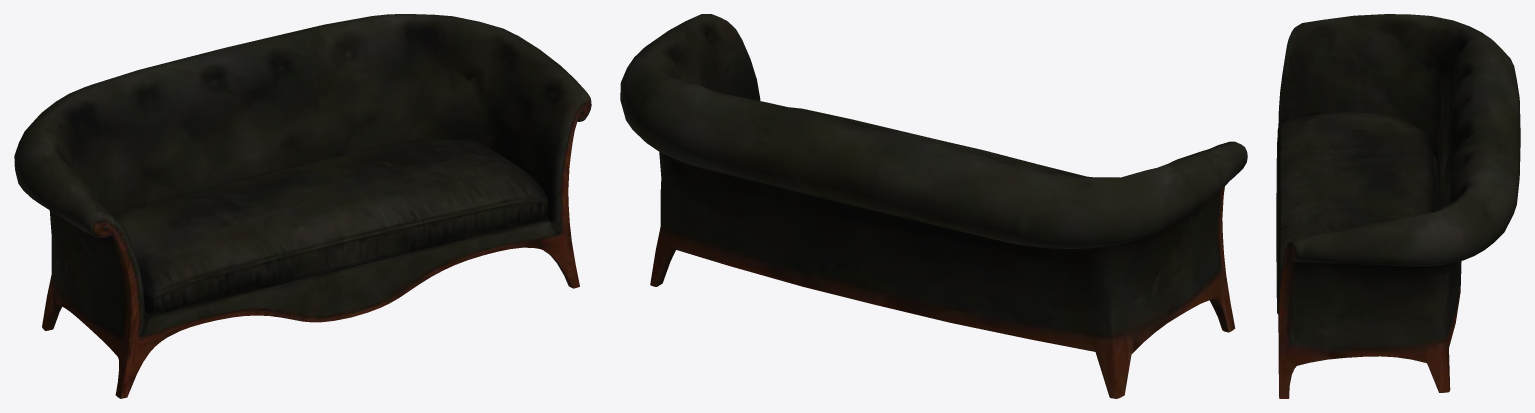
Rendered from sofa_02.glb.
3 renders of one model, left to right at view 1: azimuth 30°, elevation 25°; view 2: azimuth 150°, elevation 25°; view 3: azimuth 270°, elevation 25°, orthographic. The views are drawn at different scales.
Parts seen in each view (by area): view 1: sofa_02_Base, sofa_02_Seat; view 2: sofa_02_Base, sofa_02_Seat; view 3: sofa_02_Base, sofa_02_Seat.
Part boxes in pixels (x1,y1,x2,y2): sofa_02_Base: [14, 14, 591, 398]; sofa_02_Seat: [115, 139, 549, 314]; sofa_02_Base: [620, 14, 1247, 398]; sofa_02_Seat: [789, 107, 1086, 176]; sofa_02_Base: [1278, 14, 1520, 398]; sofa_02_Seat: [1276, 112, 1433, 314].
Bounding box in the file's own units: 1.81 × 0.7095 × 0.8178.
1 material, 1 textured.
